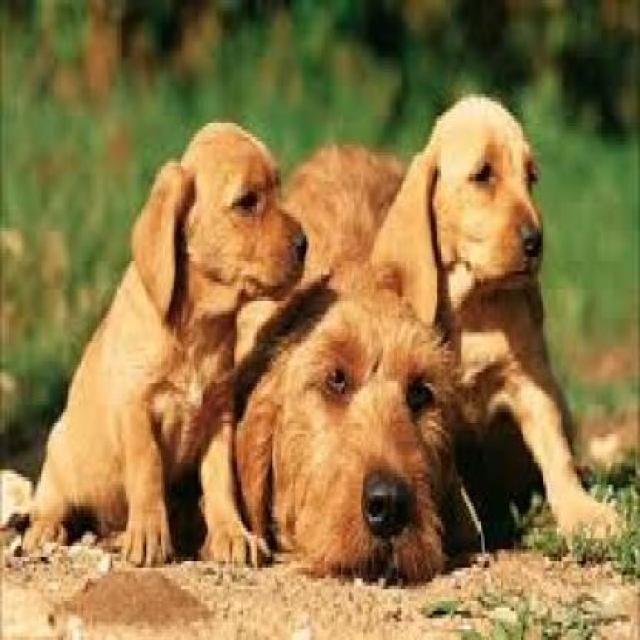animals: (232, 246, 473, 626), (360, 58, 580, 373), (105, 55, 310, 387)
